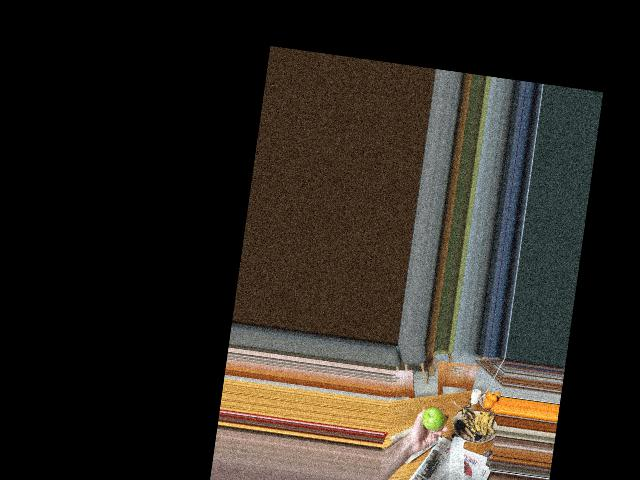apple: (420, 404, 446, 432)
